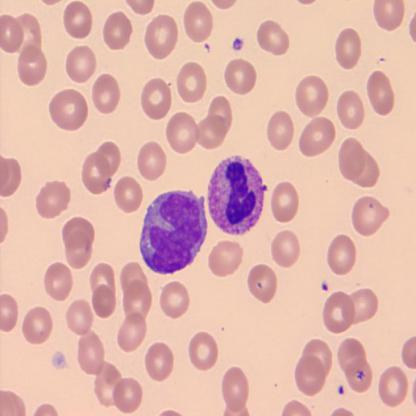Monocyte: (138, 188, 209, 277)
